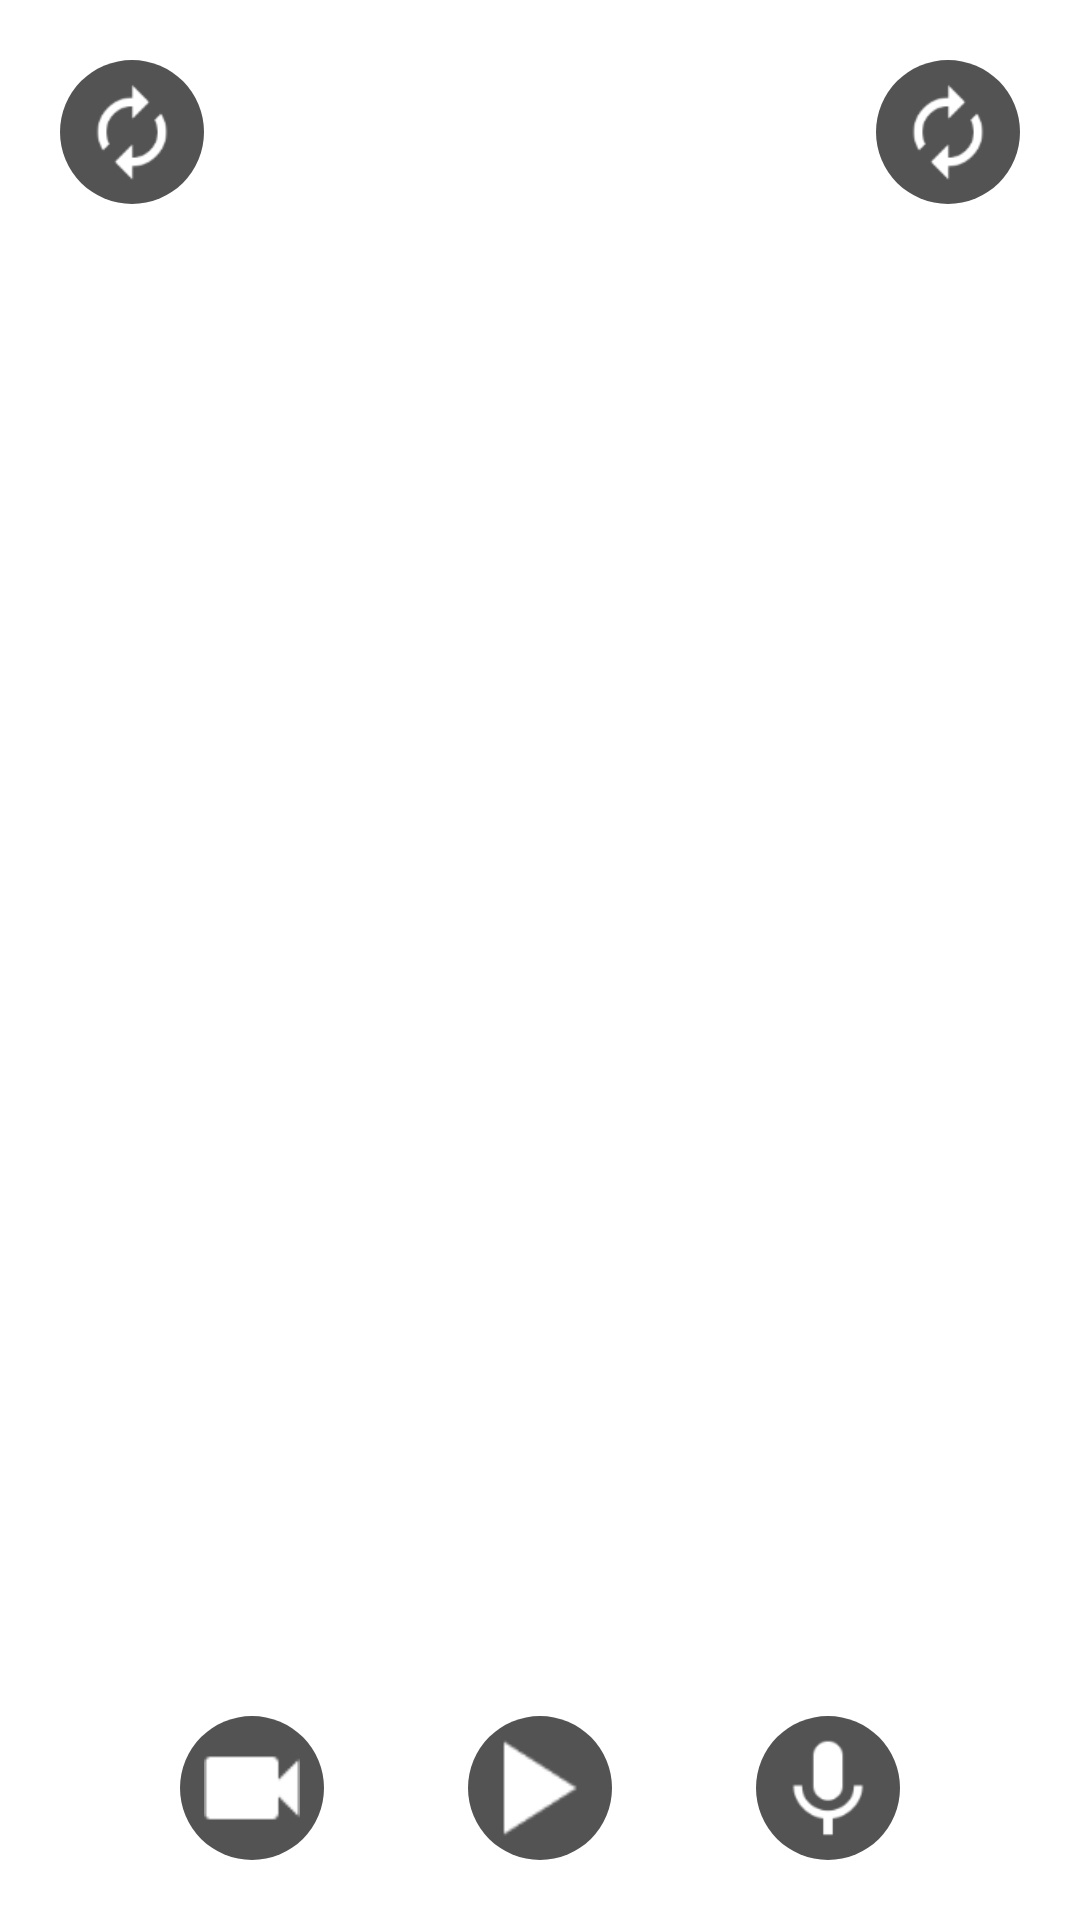

Screen size 1080w x 1920h. Icon name, then its box in pixels as (left=x1, top=y1, right=x2, bottom=y2):
autorenew: (left=60, top=60, right=204, bottom=204), (left=876, top=60, right=1020, bottom=204)
mic: (left=756, top=1716, right=900, bottom=1860)
play arrow: (left=468, top=1716, right=612, bottom=1860)
videocam: (left=180, top=1716, right=324, bottom=1860)
